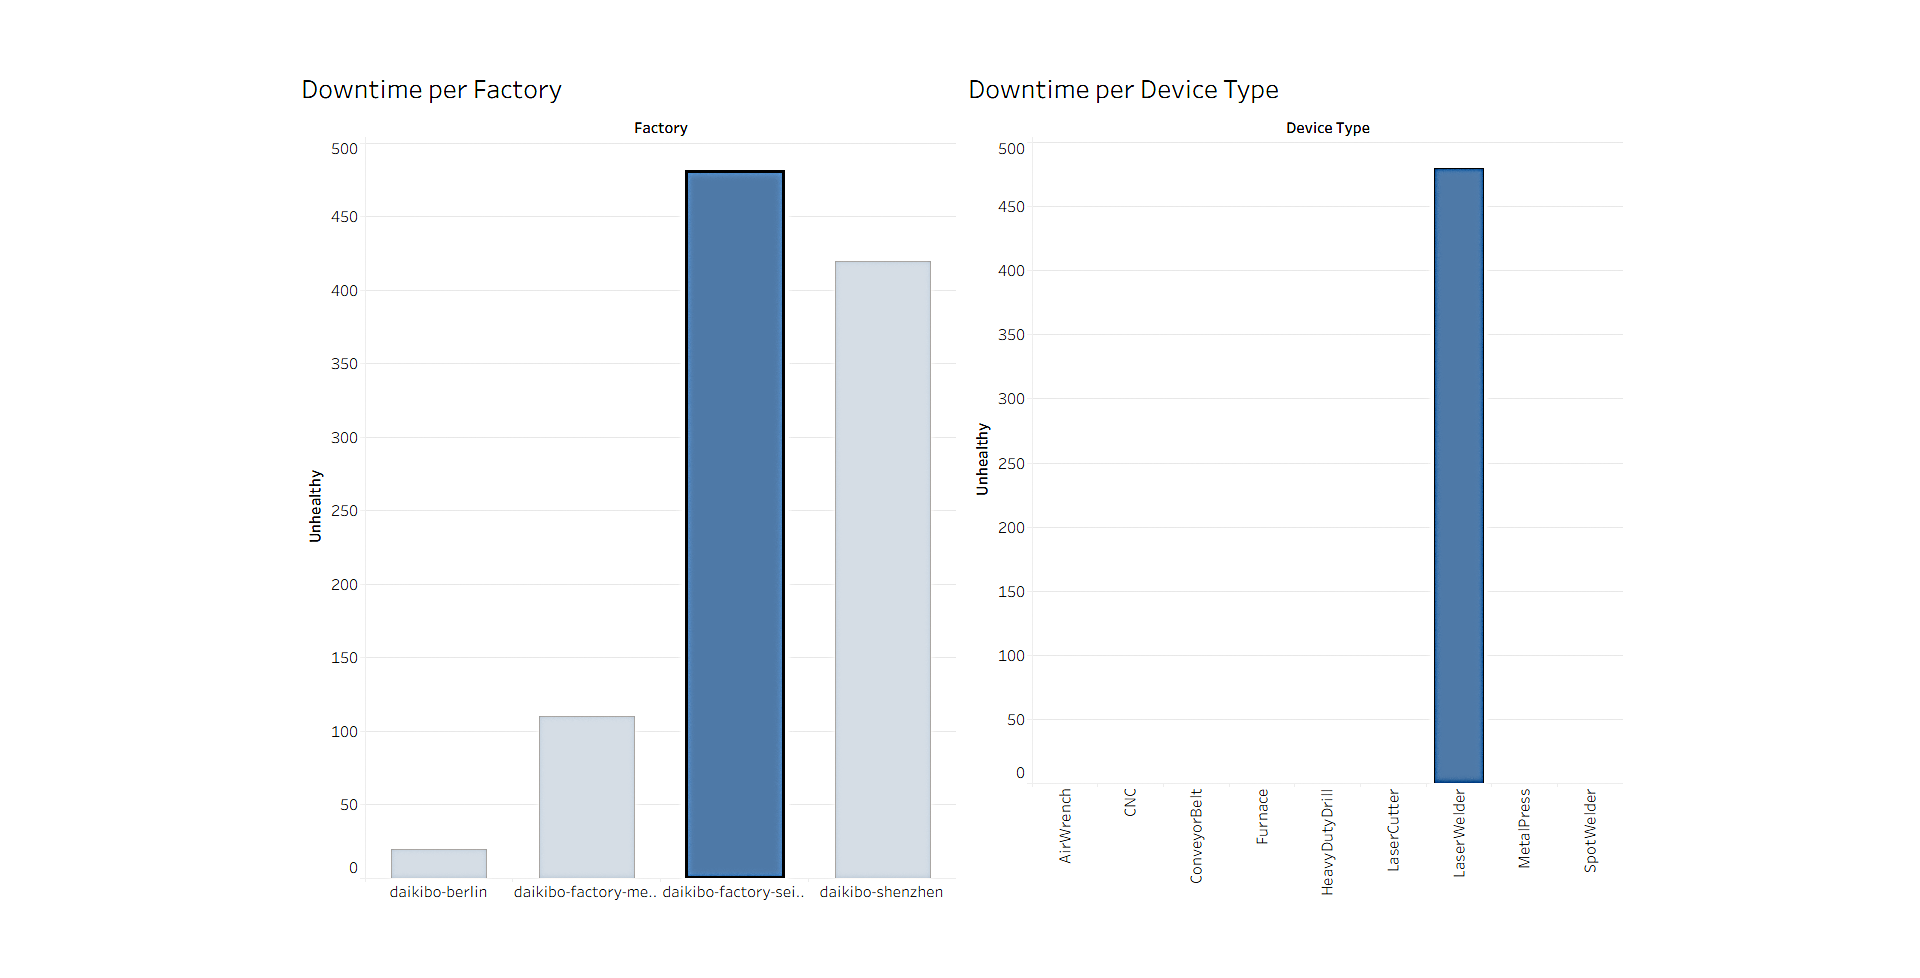

The page's visual inventory and layout, read from the dashboard file:
{"tool":"tableau","page":{"name":"Dashboard 1","canvas":[1000,1000],"units":"permille","ordinal":0},"visuals":[{"type":"worksheet","title":"Sheet 1","mark":"Automatic","rows":["Calculation_0290859897663488"],"cols":["factory"],"box":[5.9,10,494,980]},{"type":"worksheet","title":"Sheet 2","mark":"Automatic","rows":["Calculation_0290859897663488"],"cols":["deviceType"],"box":[499.9,10,494.1,980]}]}

Visuals, with their boxes on the dashboard's canvas, which has no fixed pixel size, in thousandths of its width and height (x1, y1, x2, y2). These are canvas units, not pixel positions in the 1920x978 screenshot, which may show the page scaled, cropped or inside an application window:
"Sheet 1" worksheet: 6:10:500:990
"Sheet 2" worksheet: 500:10:994:990
